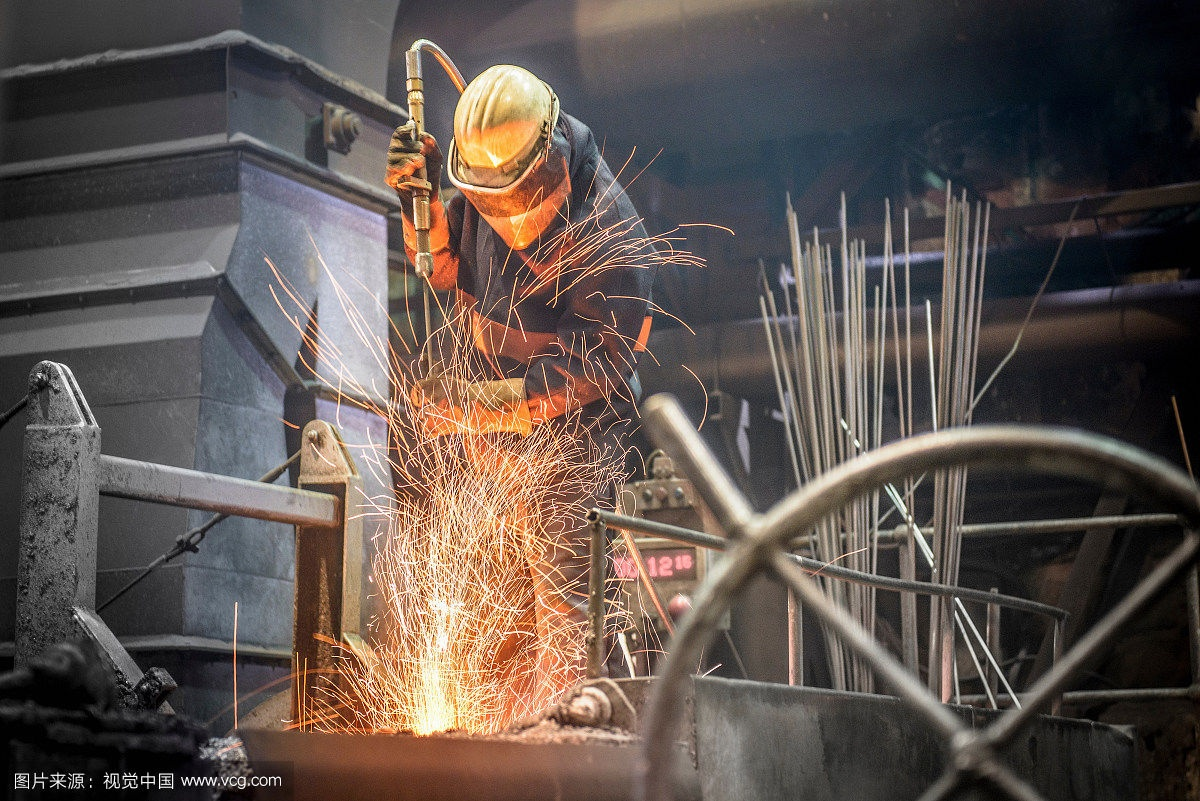yellow: (442, 59, 576, 244)
